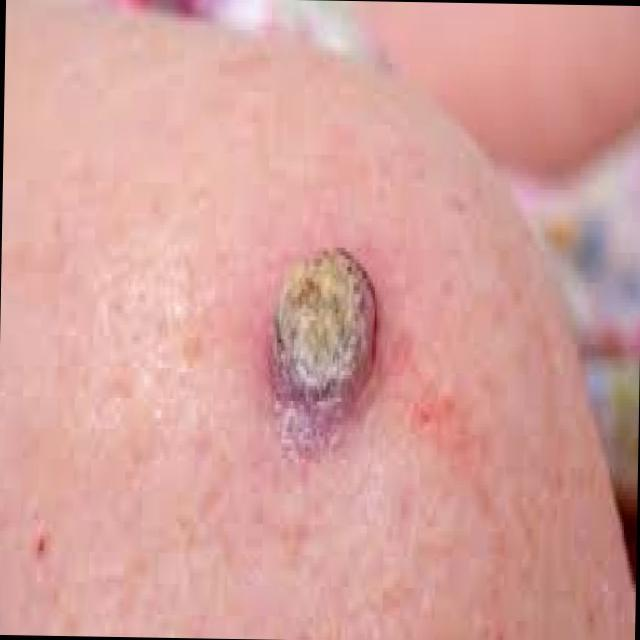Eczema: (235, 250, 390, 418)
